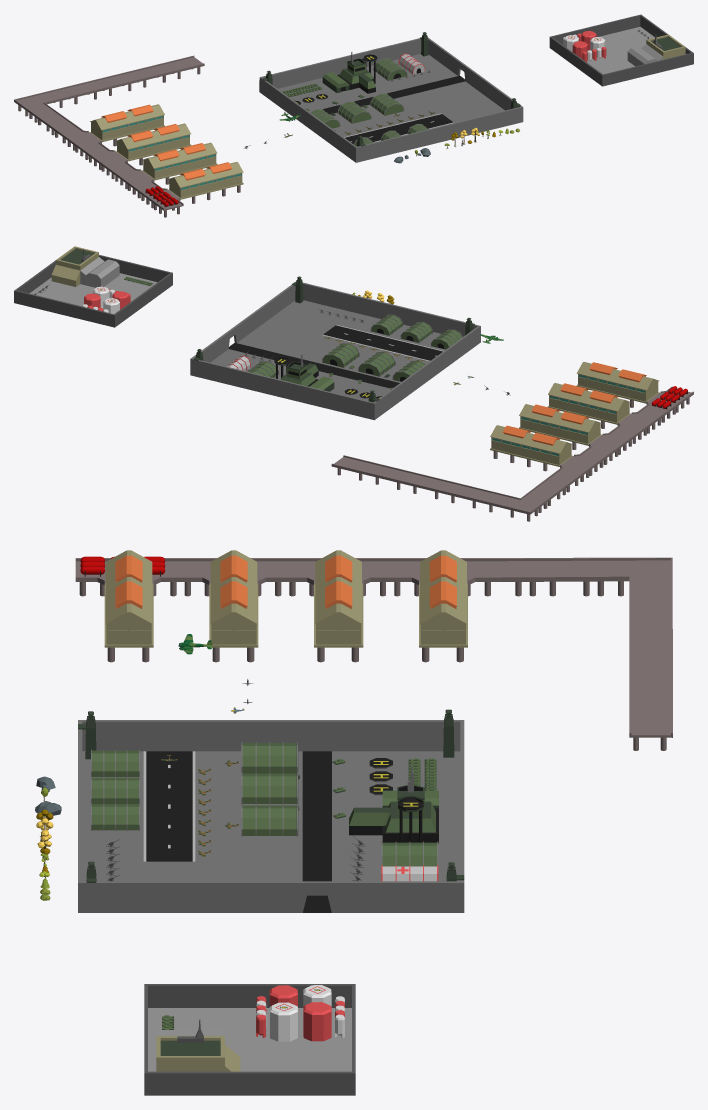
File: every.fbx
The picture shows the model from 3 angles, top to bottom: view 1: azimuth 30°, elevation 25°; view 2: azimuth 150°, elevation 25°; view 3: azimuth 270°, elevation 25°; orthographic projection. The views are drawn at different scales.
Visible parts, largest first — view 1: HQ, port, fuel_silo; view 2: HQ, port, fuel_silo; view 3: HQ, port, fuel_silo.
Part boxes in pixels (bbox=[...]): HQ: bbox=[259, 32, 523, 162]; port: bbox=[14, 55, 243, 217]; fuel_silo: bbox=[549, 14, 693, 86]; HQ: bbox=[190, 276, 480, 420]; port: bbox=[331, 362, 693, 521]; fuel_silo: bbox=[14, 246, 172, 327]; HQ: bbox=[78, 709, 464, 912]; port: bbox=[75, 550, 672, 750]; fuel_silo: bbox=[144, 984, 355, 1095].
Size of the model in its own units: 23568 by 1847 by 11887.
20 materials, 4 textured.
